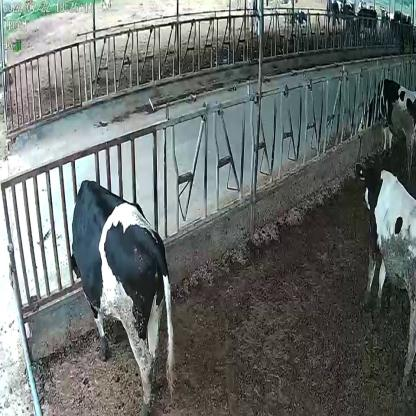cow: (69, 178, 178, 416), (354, 160, 416, 380), (358, 75, 416, 178)
